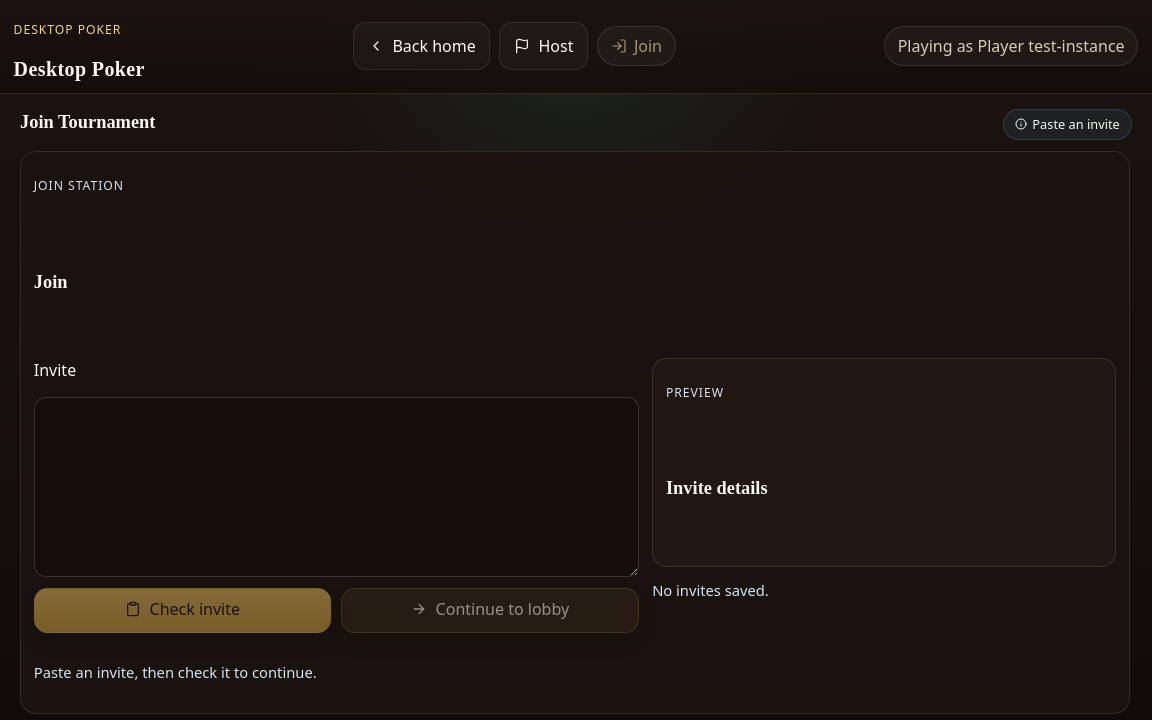
it: AppShell integration (client and routing) › join flow shows a connection error when the host is unreachable
The image size is (1152, 720).
expect the heading "Join Tournament" is shown: met, box [20,109,155,140]
Type "pkr1_validlooking" into the text box labelled "Invite". click: [336, 487]
box: [34,397,639,577]
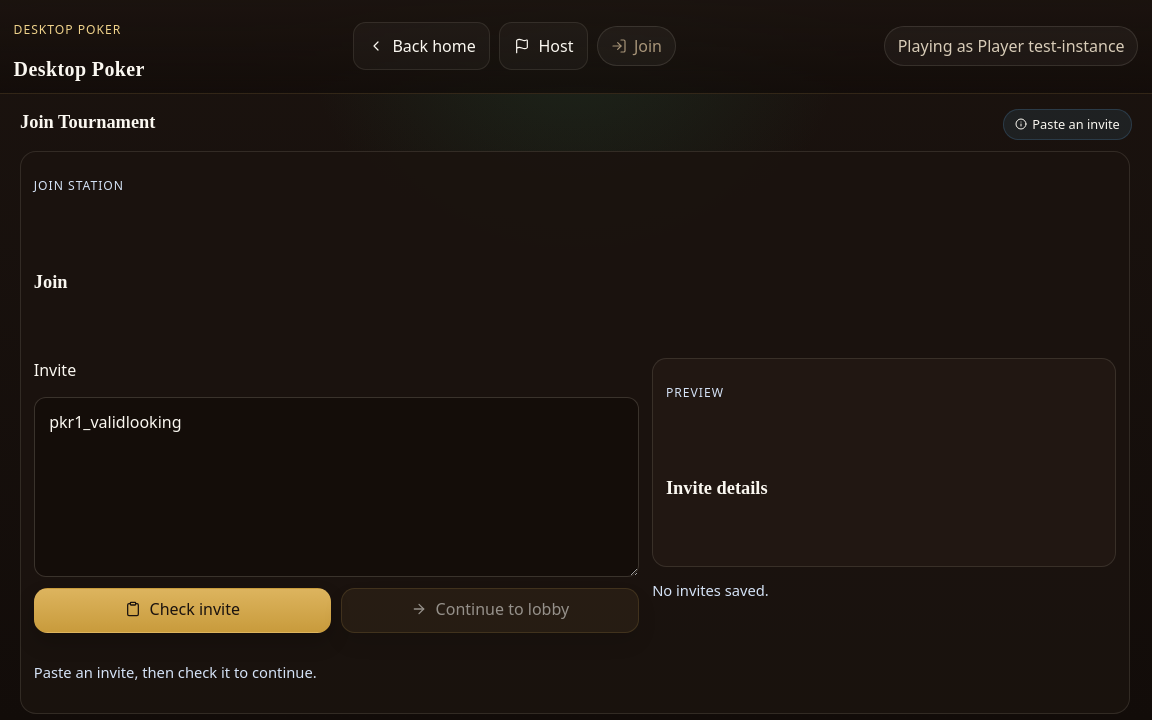
Click the button "Check invite". click: [182, 610]
box: [34,588,331,633]
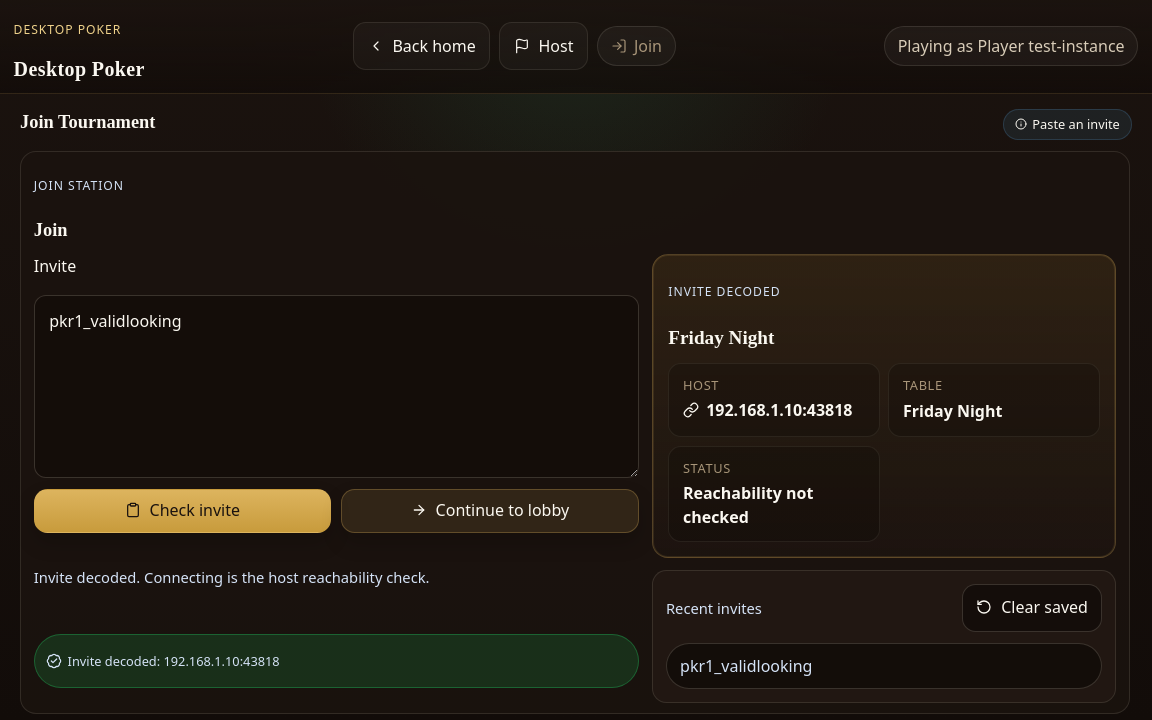
expect the button "Continue to lobby" is enabled: met
Click the button "Continue to lobby". click: [490, 511]
box: [341,489,639,533]
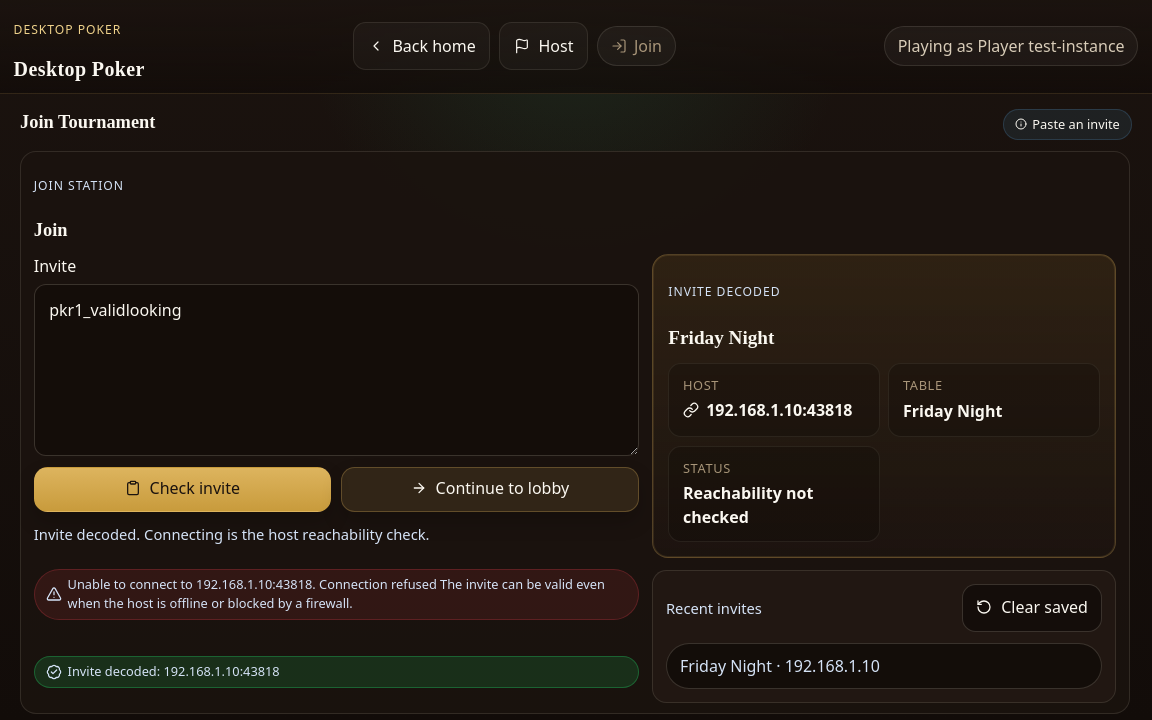
expect the text "Connection refused" is shown: met, box [68,575,605,612]
